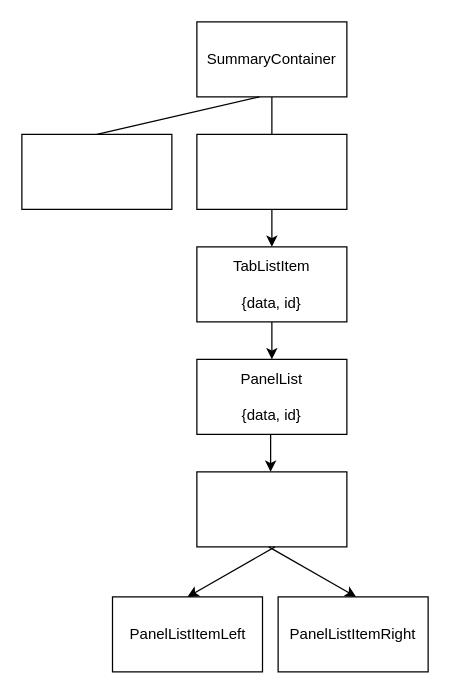
This 450x694 diagram has some shape labels left out. Each missing label, with the box of its shape:
PageHeader {title}: (21, 133, 172, 209)
PanelListItem {data, id}: (196, 471, 347, 547)
TabList {data, id}: (196, 133, 347, 209)
